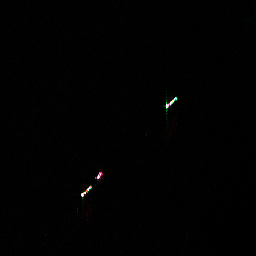ship: (163, 94, 180, 110), (78, 183, 94, 199), (94, 169, 103, 181)
